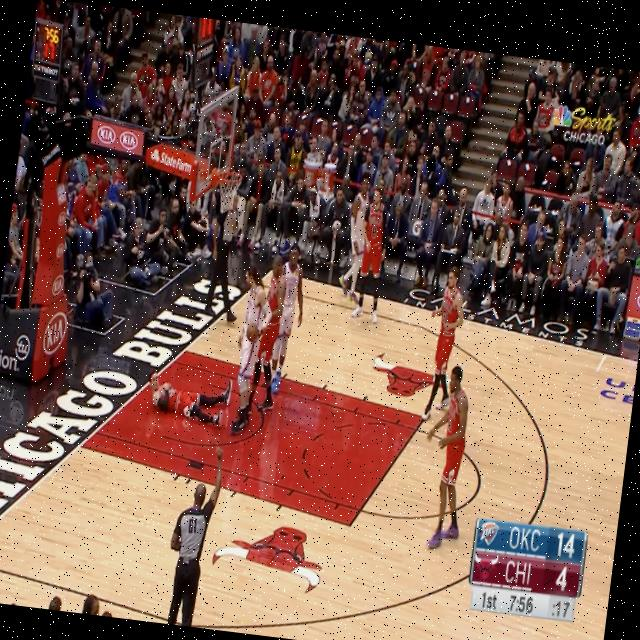foul: (122, 250, 280, 447)
no foul: (326, 174, 402, 336), (247, 234, 308, 419)
